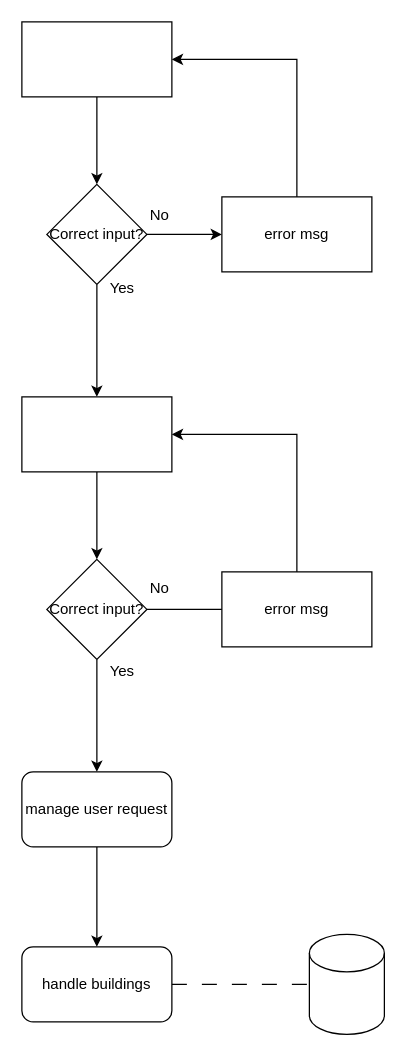
Image size: 406x1056. Some labels were removed from this diagram. The shapes that lost their labels are listed below. From the top down, each one's centre as x and y in pixels, then its label:
(96,59): User Input
(96,434): Show requirements for selected option
(346,983): buildings
